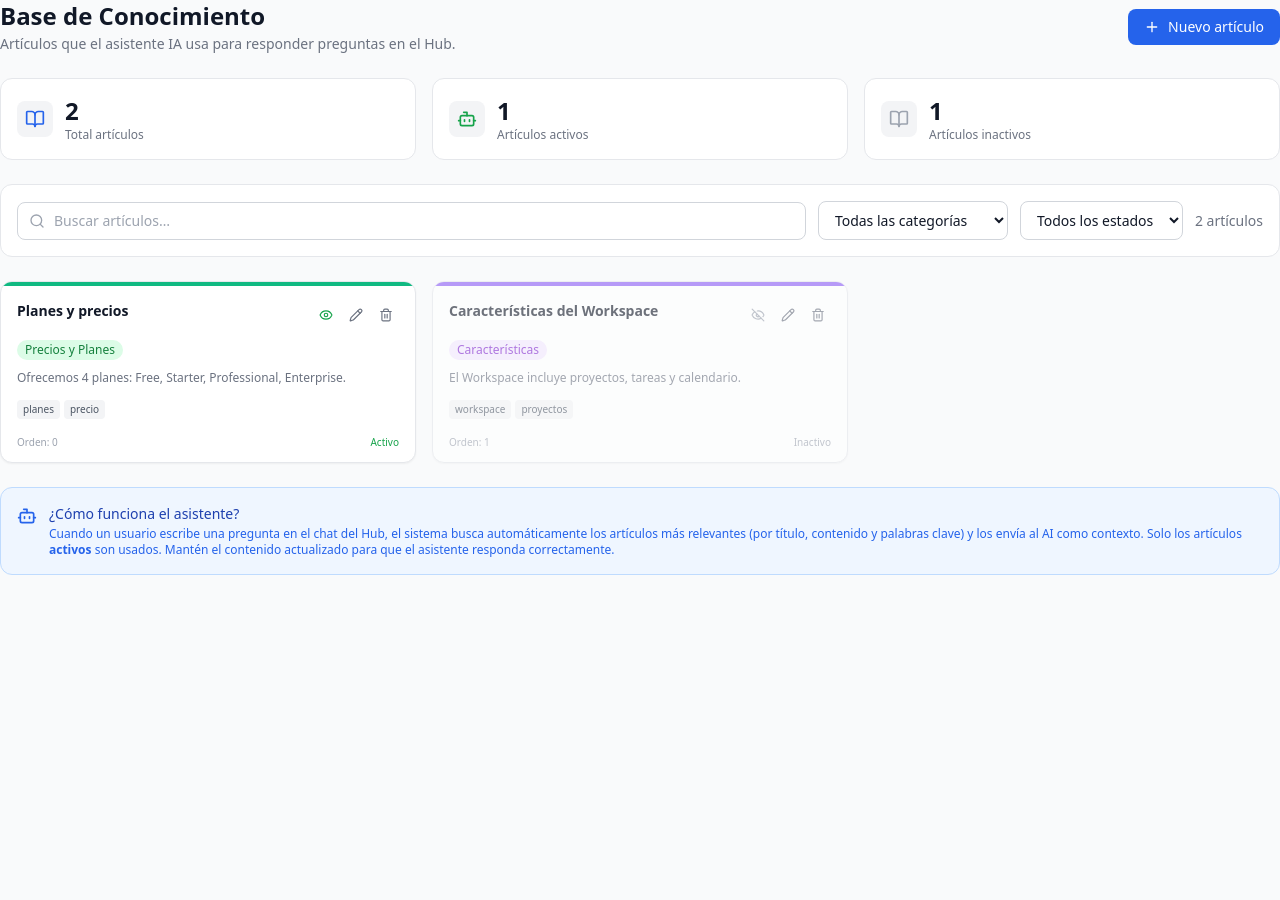
Scenario: KnowledgeBasePage › opens create modal on button click
The width and height of the screenshot is (1280, 900).
Click the button "Nuevo artículo" at (1204, 27), box [1128,9,1279,45]
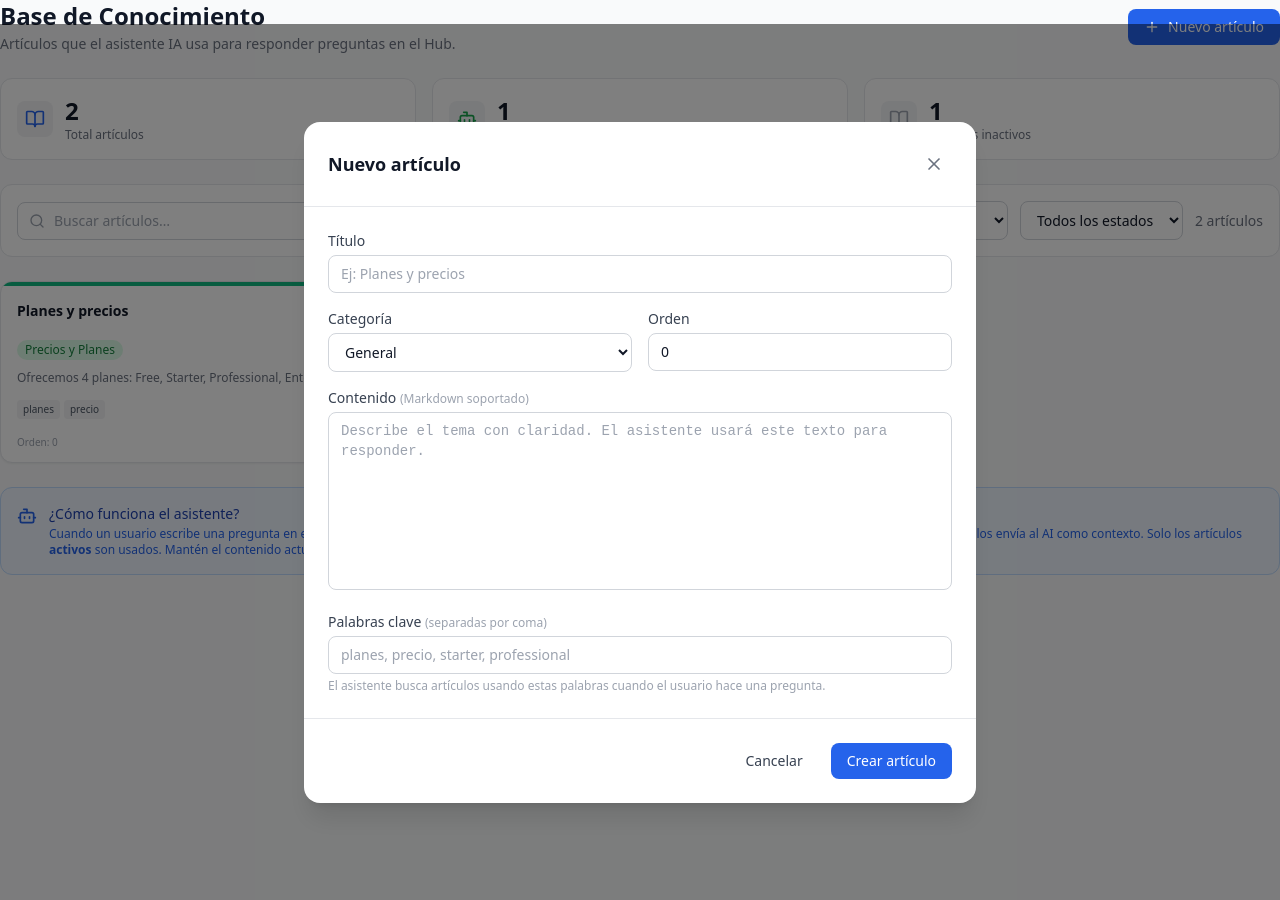
Expected: the dialog is shown, [304,122,976,802]
Expected: the field with placeholder "Ej: Planes y precios" is shown, [328,254,952,292]
